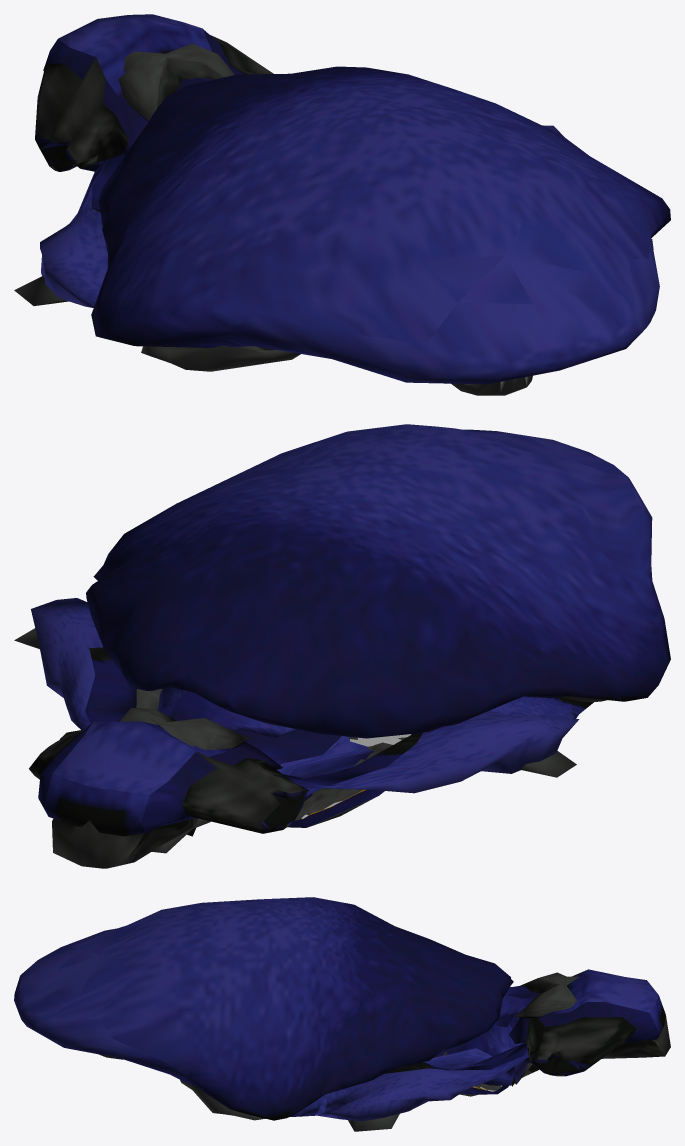
The model's file is npc_hopper_die_000231.obj.
3 renders of one model, top to bottom at view 1: azimuth 30°, elevation 25°; view 2: azimuth 150°, elevation 25°; view 3: azimuth 270°, elevation 25°, orthographic. The views are drawn at different scales.
Parts seen in each view (by area): view 1: npc_hopper_npc_hopper_mesh; view 2: npc_hopper_npc_hopper_mesh; view 3: npc_hopper_npc_hopper_mesh.
Part boxes in pixels (bbox=[...]): npc_hopper_npc_hopper_mesh: bbox=[14, 14, 670, 395]; npc_hopper_npc_hopper_mesh: bbox=[14, 424, 670, 868]; npc_hopper_npc_hopper_mesh: bbox=[14, 897, 670, 1131].
Size of the model in its own units: 1.66 by 0.6643 by 2.45.
